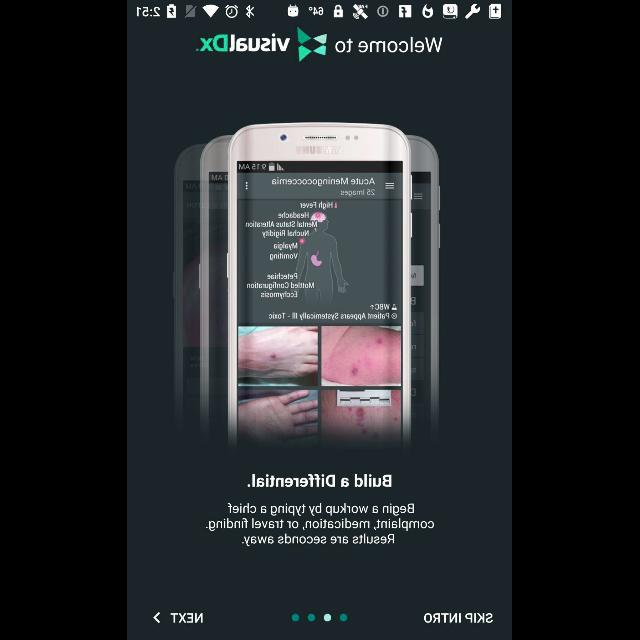icon: (154, 612, 162, 624)
image: (175, 122, 442, 460), (195, 27, 327, 63)
pageindicator: (292, 614, 348, 622)
text: (207, 502, 436, 546), (248, 473, 392, 487), (336, 36, 444, 54), (424, 612, 494, 624), (171, 613, 203, 623)
uppertaskbar: (128, 1, 512, 23)
